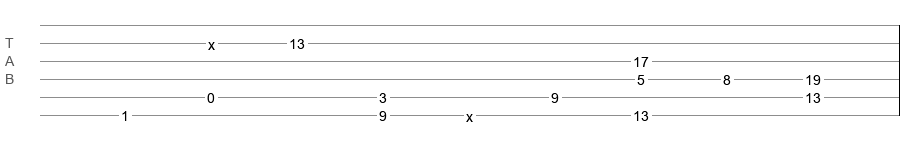0: (207, 90, 215, 100)
1: (121, 108, 129, 118)
13: (289, 36, 305, 46), (633, 108, 649, 118), (805, 90, 821, 100)
17: (633, 54, 649, 64)
19: (805, 72, 821, 82)
3: (379, 90, 387, 100)
5: (637, 72, 645, 82)
8: (723, 72, 731, 82)
9: (379, 108, 387, 118), (551, 90, 559, 100)
x: (208, 37, 215, 45), (466, 109, 473, 117)
